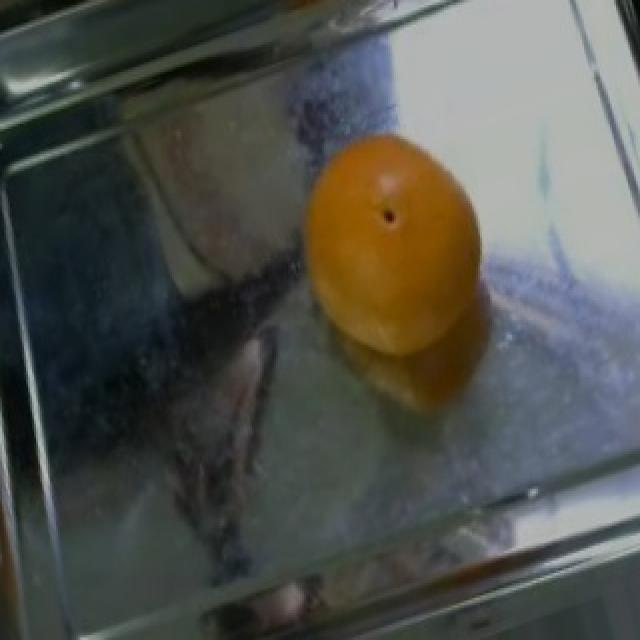Fruit: (276, 114, 508, 434)
